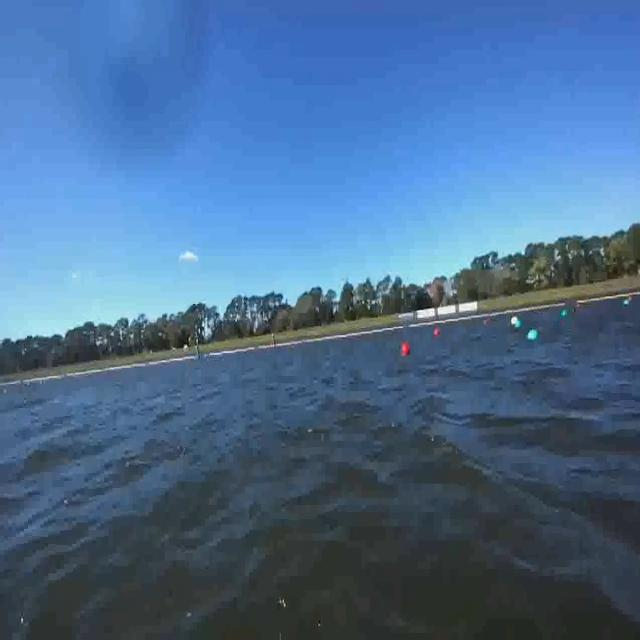green-buoy: (527, 328, 539, 339), (514, 318, 522, 332), (561, 311, 568, 318)
red-buoy: (403, 343, 412, 357), (434, 327, 439, 336)
